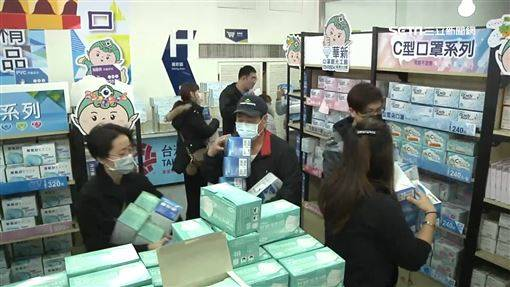Mask: (103, 136, 135, 177), (234, 109, 266, 141)
